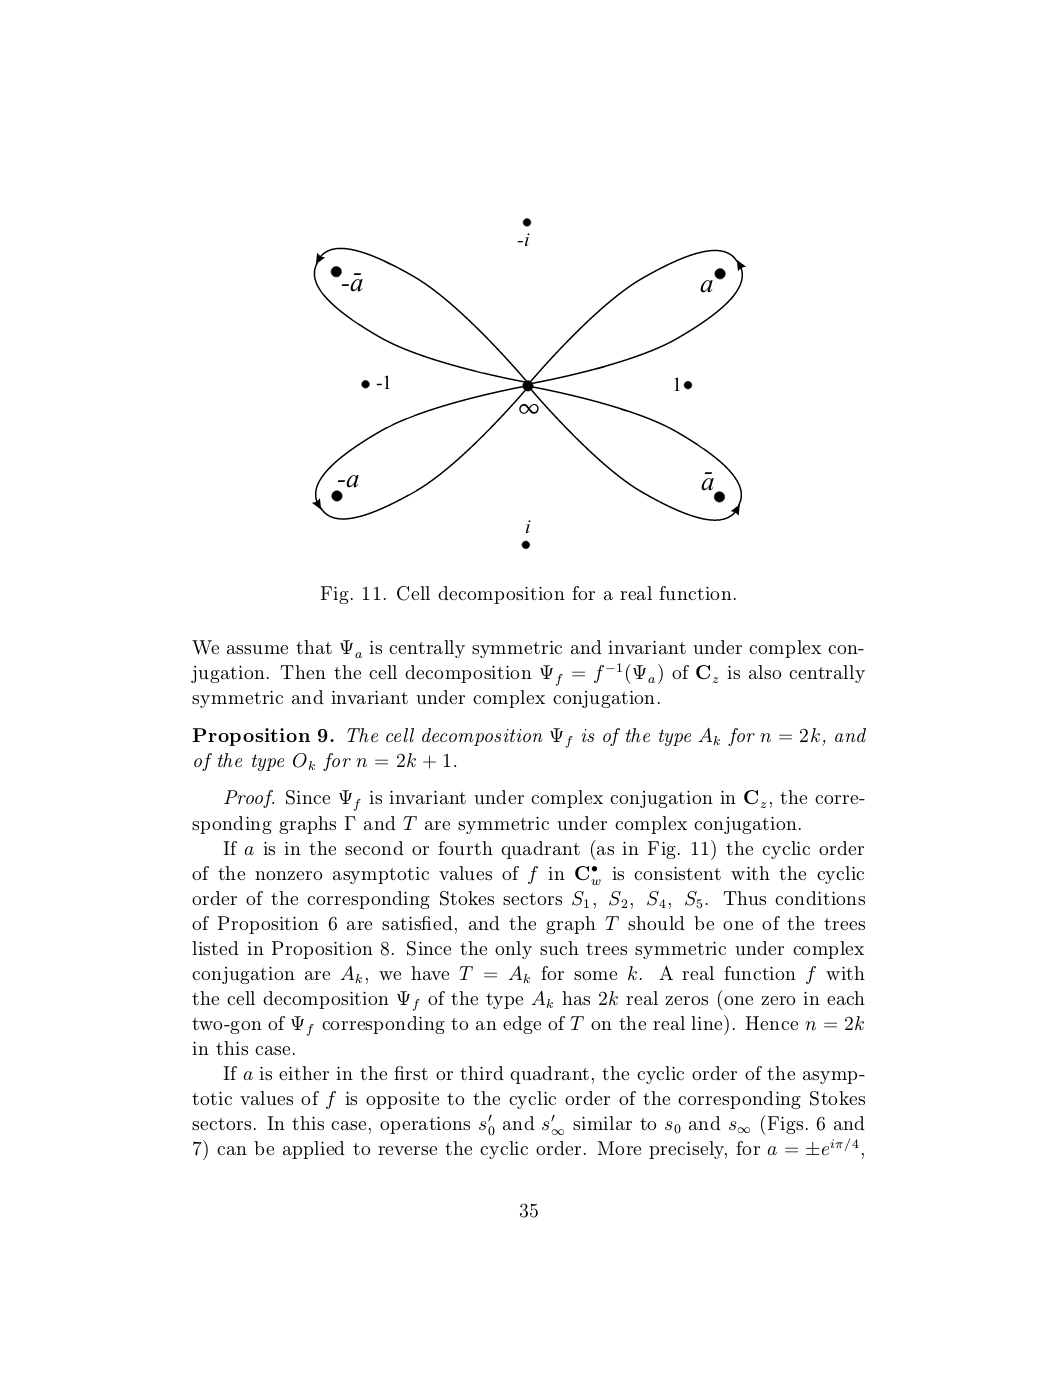figure: (312, 218, 744, 549)
